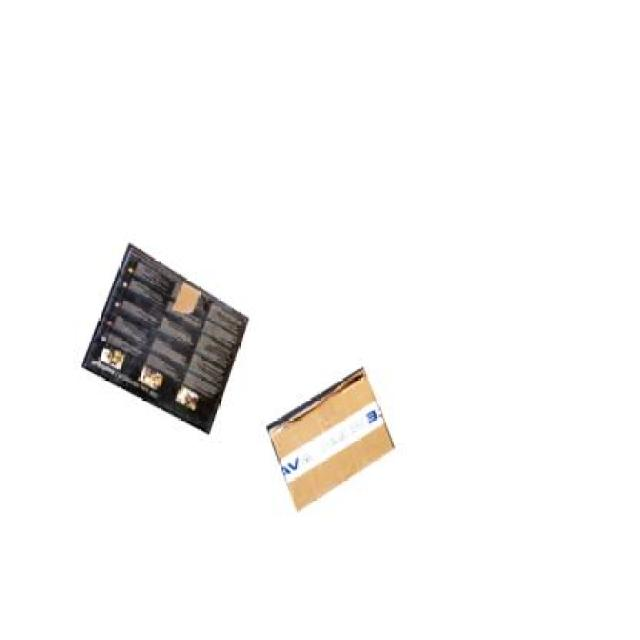cardboxes: (85, 248, 248, 434), (268, 366, 394, 511)
